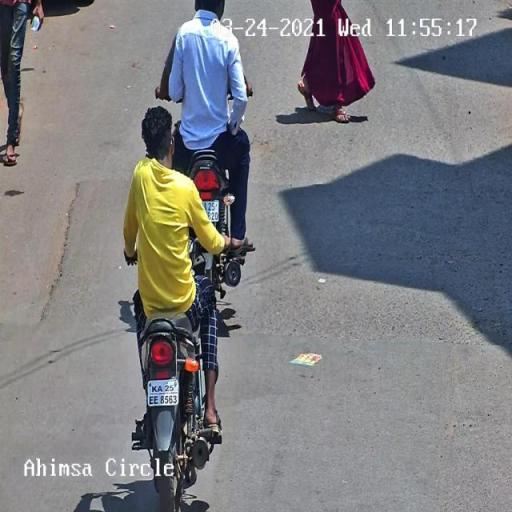numberplate: (147, 380, 179, 408)
using mobile: (144, 146, 154, 164)
